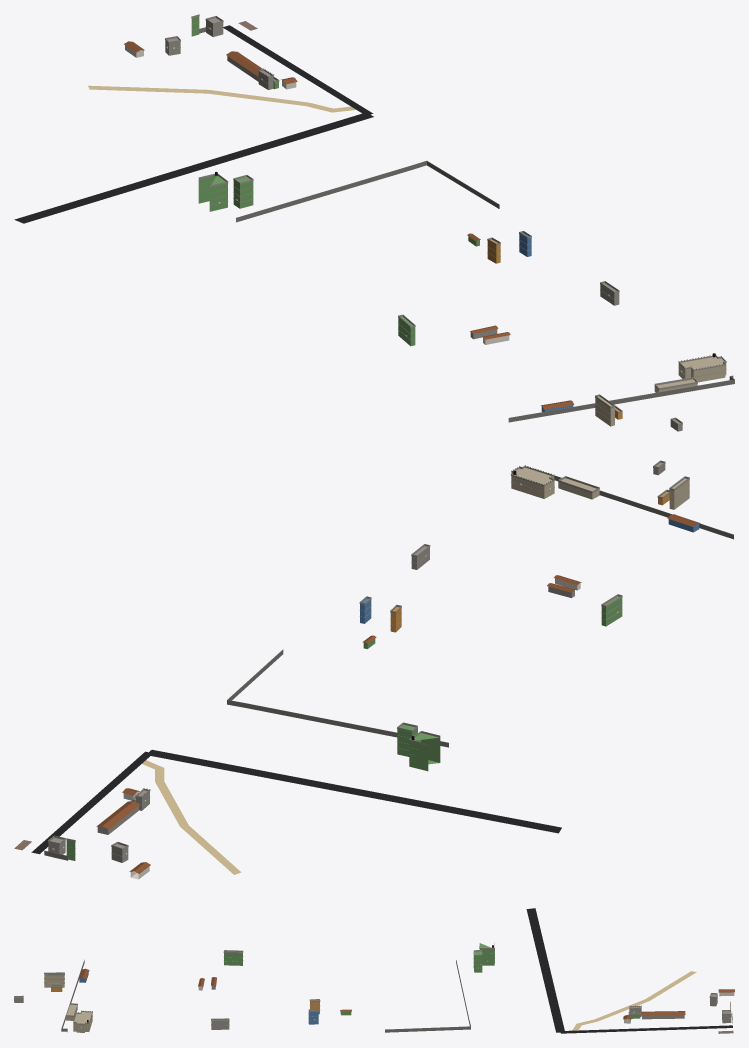
File: zone_t7_-1.glb
3 renders of one model, top to bottom at view 1: azimuth 30°, elevation 25°; view 2: azimuth 150°, elevation 25°; view 3: azimuth 270°, elevation 25°, orthographic. The views are drawn at different scales.
Parts seen in each view (by area): view 1: route_unclassified_bitume_t7_-1, mur_wall_t7_-1-col, bld_peinture_vert_t7_-1-col, bld_peinture_ecaillee_t7_-1-col, parapet_t7_-1, bld_beton_t7_-1-col, route_service_terre_t7_-1, route_service_bitume_t7_-1, toit_tole_t7_-1; view 2: route_unclassified_bitume_t7_-1, bld_peinture_vert_t7_-1-col, mur_wall_t7_-1-col, bld_peinture_ecaillee_t7_-1-col, parapet_t7_-1, bld_beton_t7_-1-col, route_service_terre_t7_-1, toit_tole_t7_-1, route_service_bitume_t7_-1; view 3: route_unclassified_bitume_t7_-1, bld_peinture_vert_t7_-1-col, parapet_t7_-1, bld_peinture_ecaillee_t7_-1-col, bld_beton_t7_-1-col, mur_wall_t7_-1-col, route_service_bitume_t7_-1, route_service_terre_t7_-1, toit_tole_t7_-1, bandeau_t7_-1.
Part boxes in pixels (x1,y1,x2,y2): route_unclassified_bitume_t7_-1: [14, 113, 373, 223]; mur_wall_t7_-1-col: [199, 27, 734, 422]; bld_peinture_vert_t7_-1-col: [191, 16, 479, 346]; bld_peinture_ecaillee_t7_-1-col: [595, 357, 726, 426]; parapet_t7_-1: [165, 14, 726, 425]; bld_beton_t7_-1-col: [165, 18, 682, 431]; route_service_terre_t7_-1: [88, 85, 355, 112]; route_service_bitume_t7_-1: [223, 25, 373, 115]; toit_tole_t7_-1: [124, 41, 574, 409]; route_unclassified_bitume_t7_-1: [146, 749, 561, 833]; bld_peinture_vert_t7_-1-col: [66, 596, 622, 860]; mur_wall_t7_-1-col: [44, 468, 733, 860]; bld_peinture_ecaillee_t7_-1-col: [511, 467, 689, 509]; parapet_t7_-1: [48, 460, 689, 850]; bld_beton_t7_-1-col: [48, 462, 665, 862]; route_service_terre_t7_-1: [142, 760, 241, 874]; toit_tole_t7_-1: [96, 514, 700, 873]; route_service_bitume_t7_-1: [31, 751, 152, 854]; route_unclassified_bitume_t7_-1: [526, 908, 564, 1032]; bld_peinture_vert_t7_-1-col: [224, 943, 730, 1018]; parapet_t7_-1: [14, 943, 731, 1024]; bld_peinture_ecaillee_t7_-1-col: [44, 973, 92, 1032]; bld_beton_t7_-1-col: [14, 985, 731, 1029]; mur_wall_t7_-1-col: [61, 959, 732, 1032]; route_service_bitume_t7_-1: [560, 1025, 732, 1033]; route_service_terre_t7_-1: [572, 971, 696, 1030]; toit_tole_t7_-1: [79, 968, 734, 1019]; bandeau_t7_-1: [44, 951, 730, 1028].
Bounding box in the file's own units: 195 × 14 × 473.
